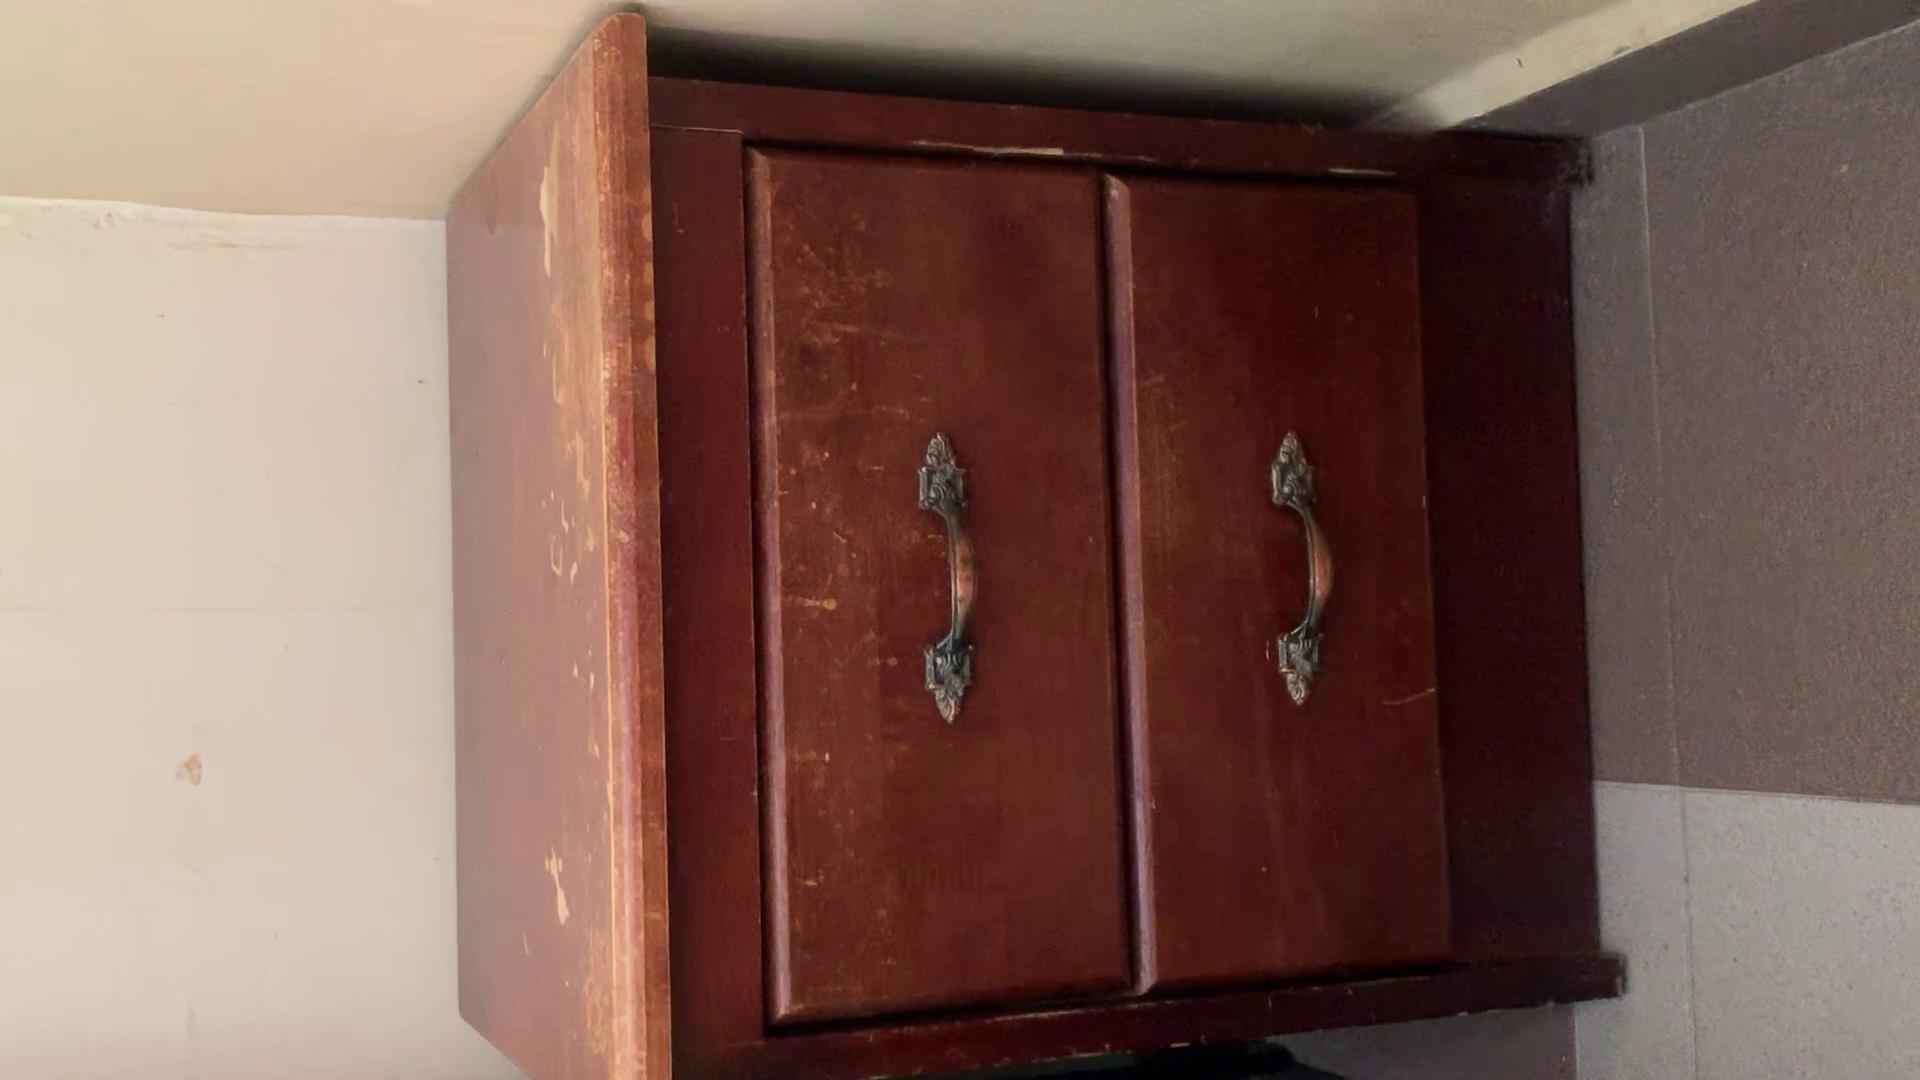cabinet_door: (760, 153, 1130, 1006), (1138, 178, 1439, 978)
handle: (1250, 418, 1348, 720), (911, 417, 996, 733)
